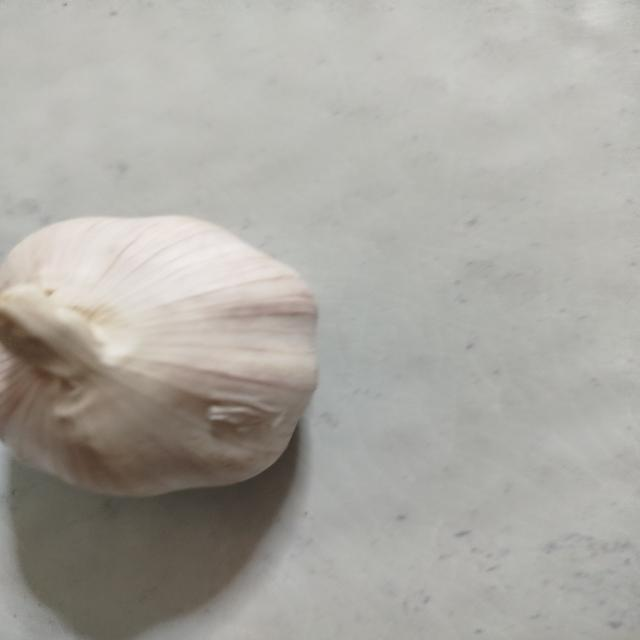garlic: (0, 213, 320, 498)
